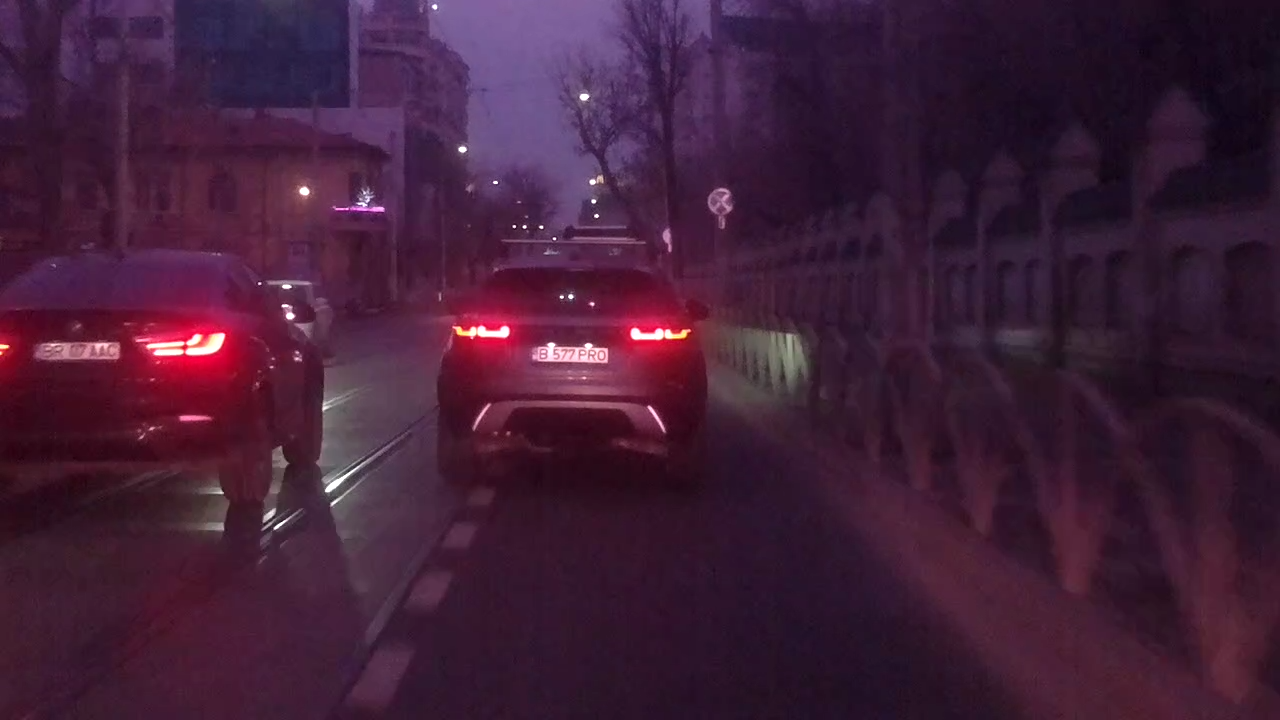license-plate: (27, 338, 123, 362), (526, 343, 611, 365)
